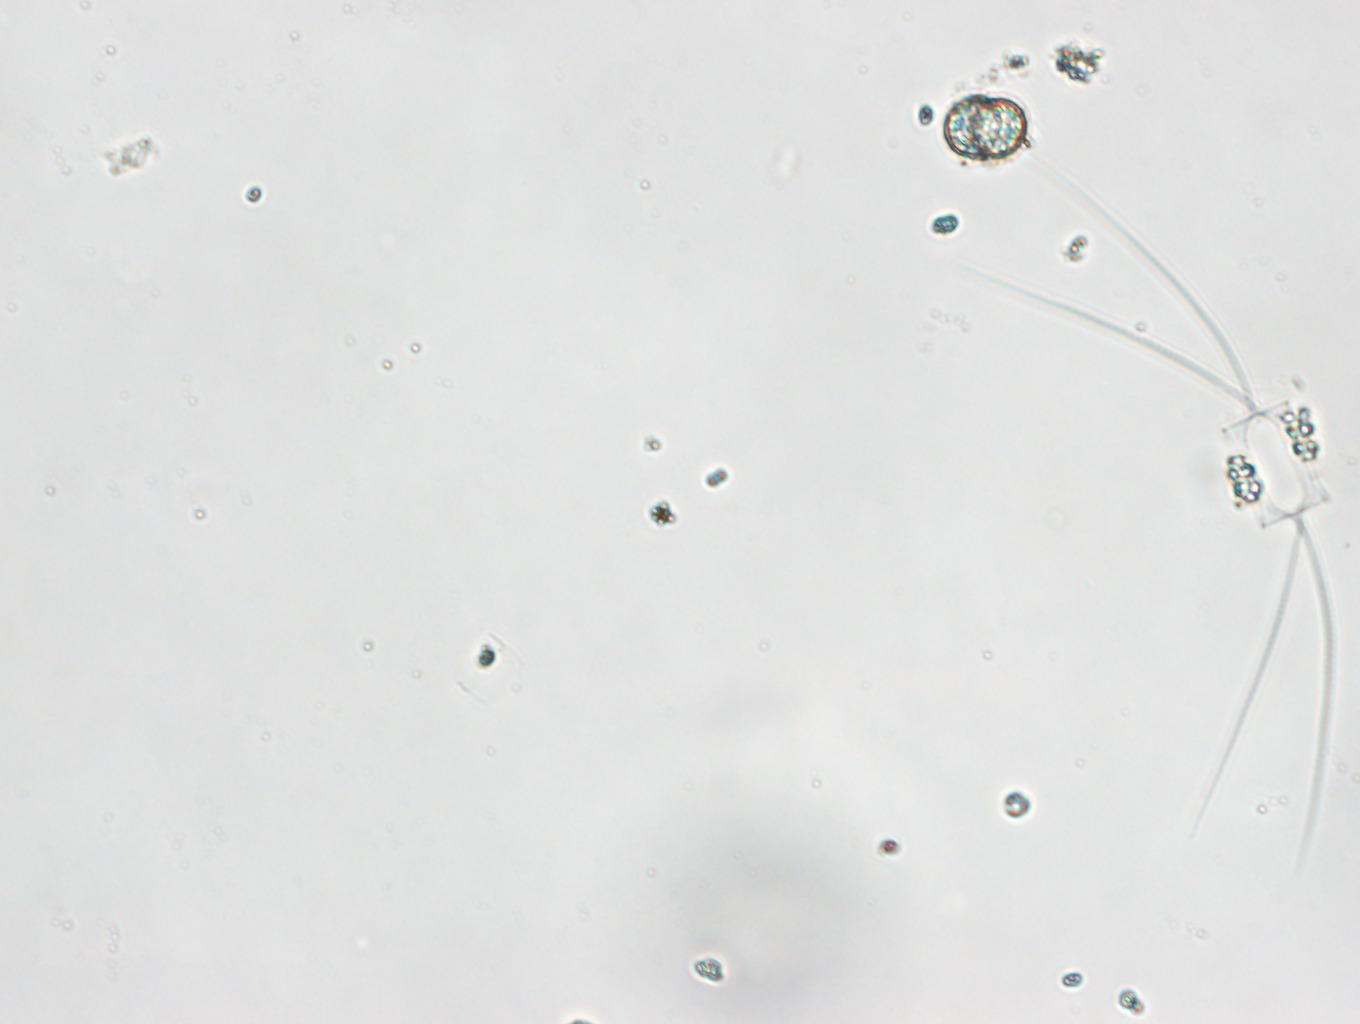chaetoceros: (954, 169, 1333, 881)
